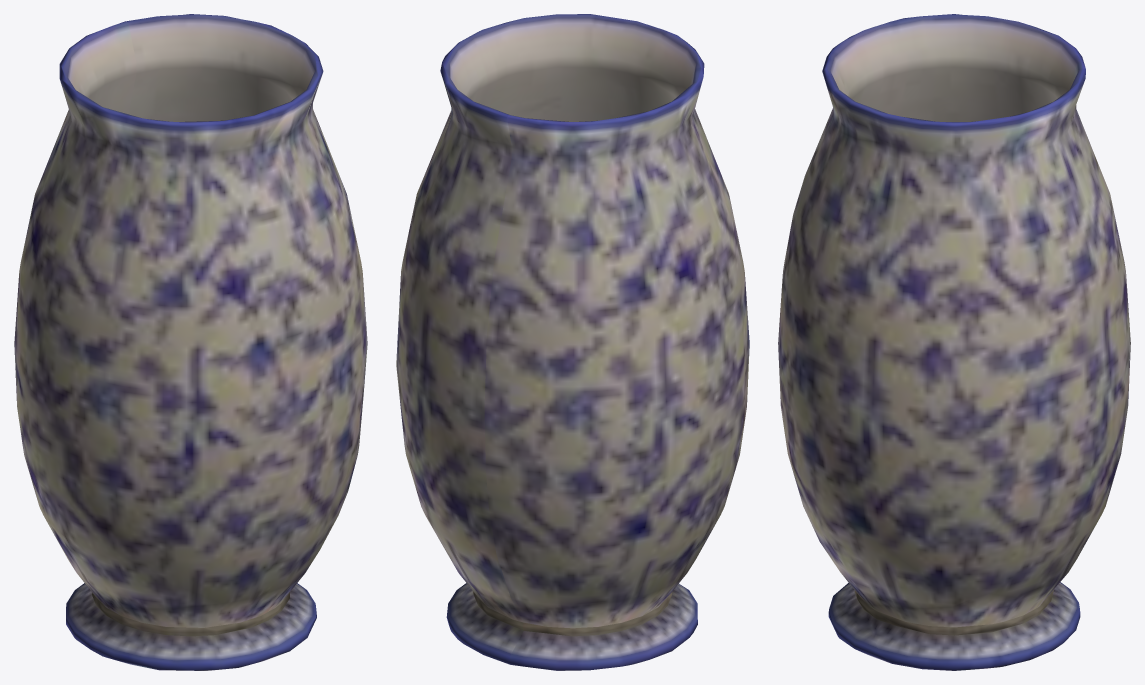
File: vase.glb
3 views of the same model, side by side, from view 1: azimuth 30°, elevation 25°; view 2: azimuth 150°, elevation 25°; view 3: azimuth 270°, elevation 25° (orthographic).
Visible parts, largest first — view 1: antique_ceramic_vase_01; view 2: antique_ceramic_vase_01; view 3: antique_ceramic_vase_01.
Part boxes in pixels (x1,y1,x2,y2): antique_ceramic_vase_01: [14, 14, 367, 670]; antique_ceramic_vase_01: [396, 14, 749, 670]; antique_ceramic_vase_01: [778, 14, 1130, 670].
Bounding box in the file's own units: 0.255 × 0.4396 × 0.255.
1 material, 1 textured.
